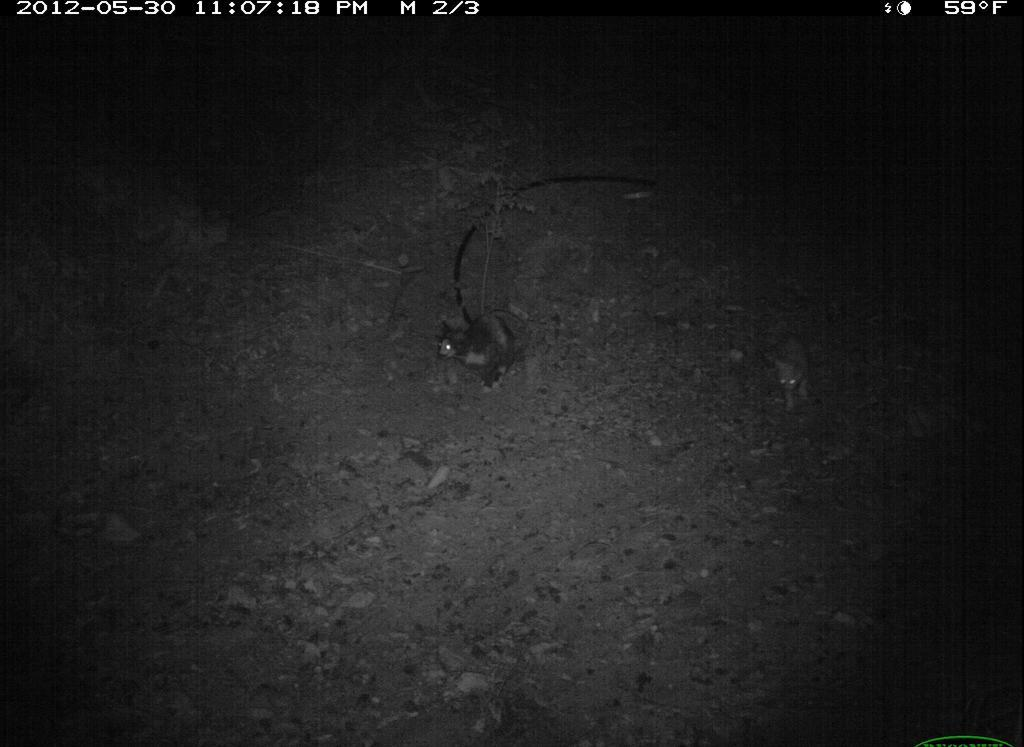cat: (438, 300, 568, 399), (757, 322, 830, 417)
